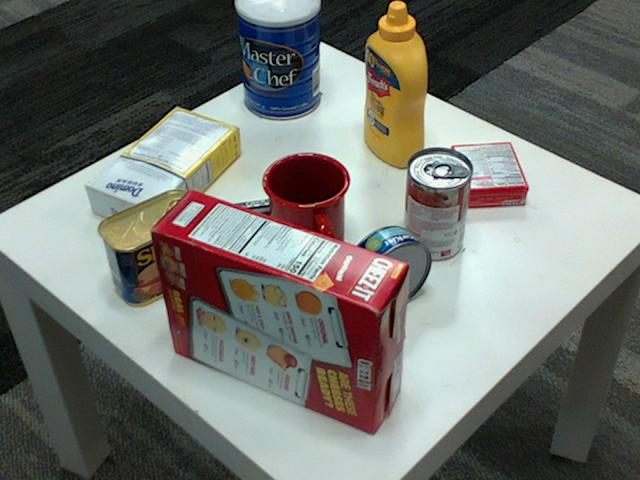cracker_box: (149, 189, 406, 431)
gelatin_box: (451, 142, 530, 206)
large_marker: (203, 193, 311, 226)
master_chef_can: (234, 0, 319, 119)
mug: (262, 149, 351, 257)
mustard_bottle: (364, 1, 426, 167)
potted_meat_can: (98, 188, 206, 306)
sugar_box: (86, 105, 241, 233)
tomato_soup_can: (402, 147, 472, 260)
tuna_fish_can: (344, 224, 432, 311)
